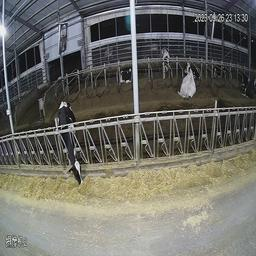cow: (54, 93, 87, 196), (177, 58, 200, 105), (237, 64, 254, 103), (117, 58, 133, 94), (159, 43, 172, 83), (211, 55, 228, 82)
